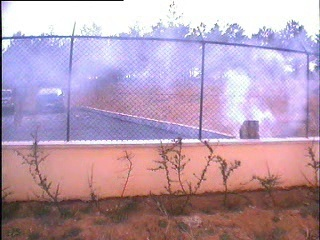smoke: (139, 26, 310, 137)
